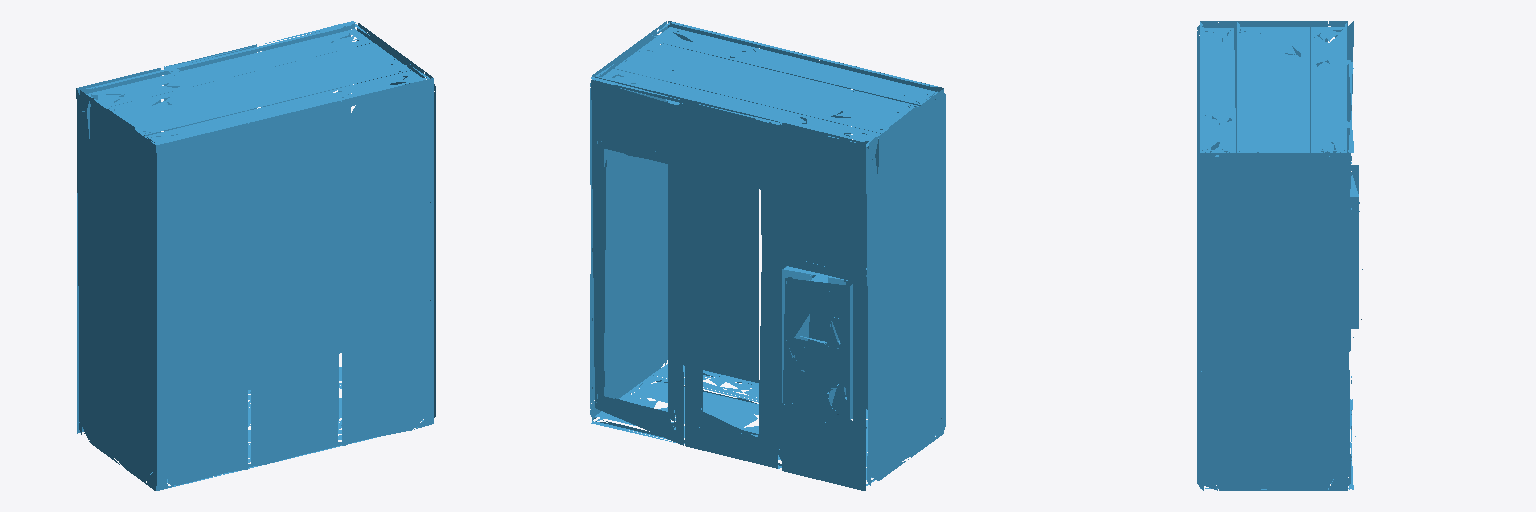
robot.urdf — lofi_openshelf:
<?xml version='1.0' encoding='utf-8'?>
<robot name="lofi_openshelf">
  <link name="world" />
  <joint name="world_joint" type="fixed">
    <parent link="world" />
    <child link="body" />
    <origin rpy="0 0 0" xyz="0 0 0" />
  </joint>
  <link name="body">
    <visual>
      <geometry><mesh filename="lofi_openshelf.obj" /></geometry>
    </visual>
    <collision>
      <geometry><mesh filename="lofi_openshelf.obj" /></geometry>
    </collision>
  </link>
</robot>

--- Facts derived from the render (not from the file) ---
Views: 3 orthographic renders of the robot side by side, from view 1: azimuth 30°, elevation 25°; view 2: azimuth 150°, elevation 25°; view 3: azimuth 270°, elevation 25°.
Model lofi_openshelf with 2 links and 1 joints (1 fixed), rooted at world, posed all joints at 0.
Visible links, largest first — view 1: body; view 2: body; view 3: body.
Link boxes in pixels (box(x1,y1,x2,y2)): body: box(76, 21, 435, 490); body: box(590, 21, 945, 490); body: box(1197, 21, 1362, 490).
Size in the robot's own frame: 1.49 by 0.7881 by 1.78 metres.
1 mesh visuals loaded from 1 distinct referenced files (1 OBJ).
